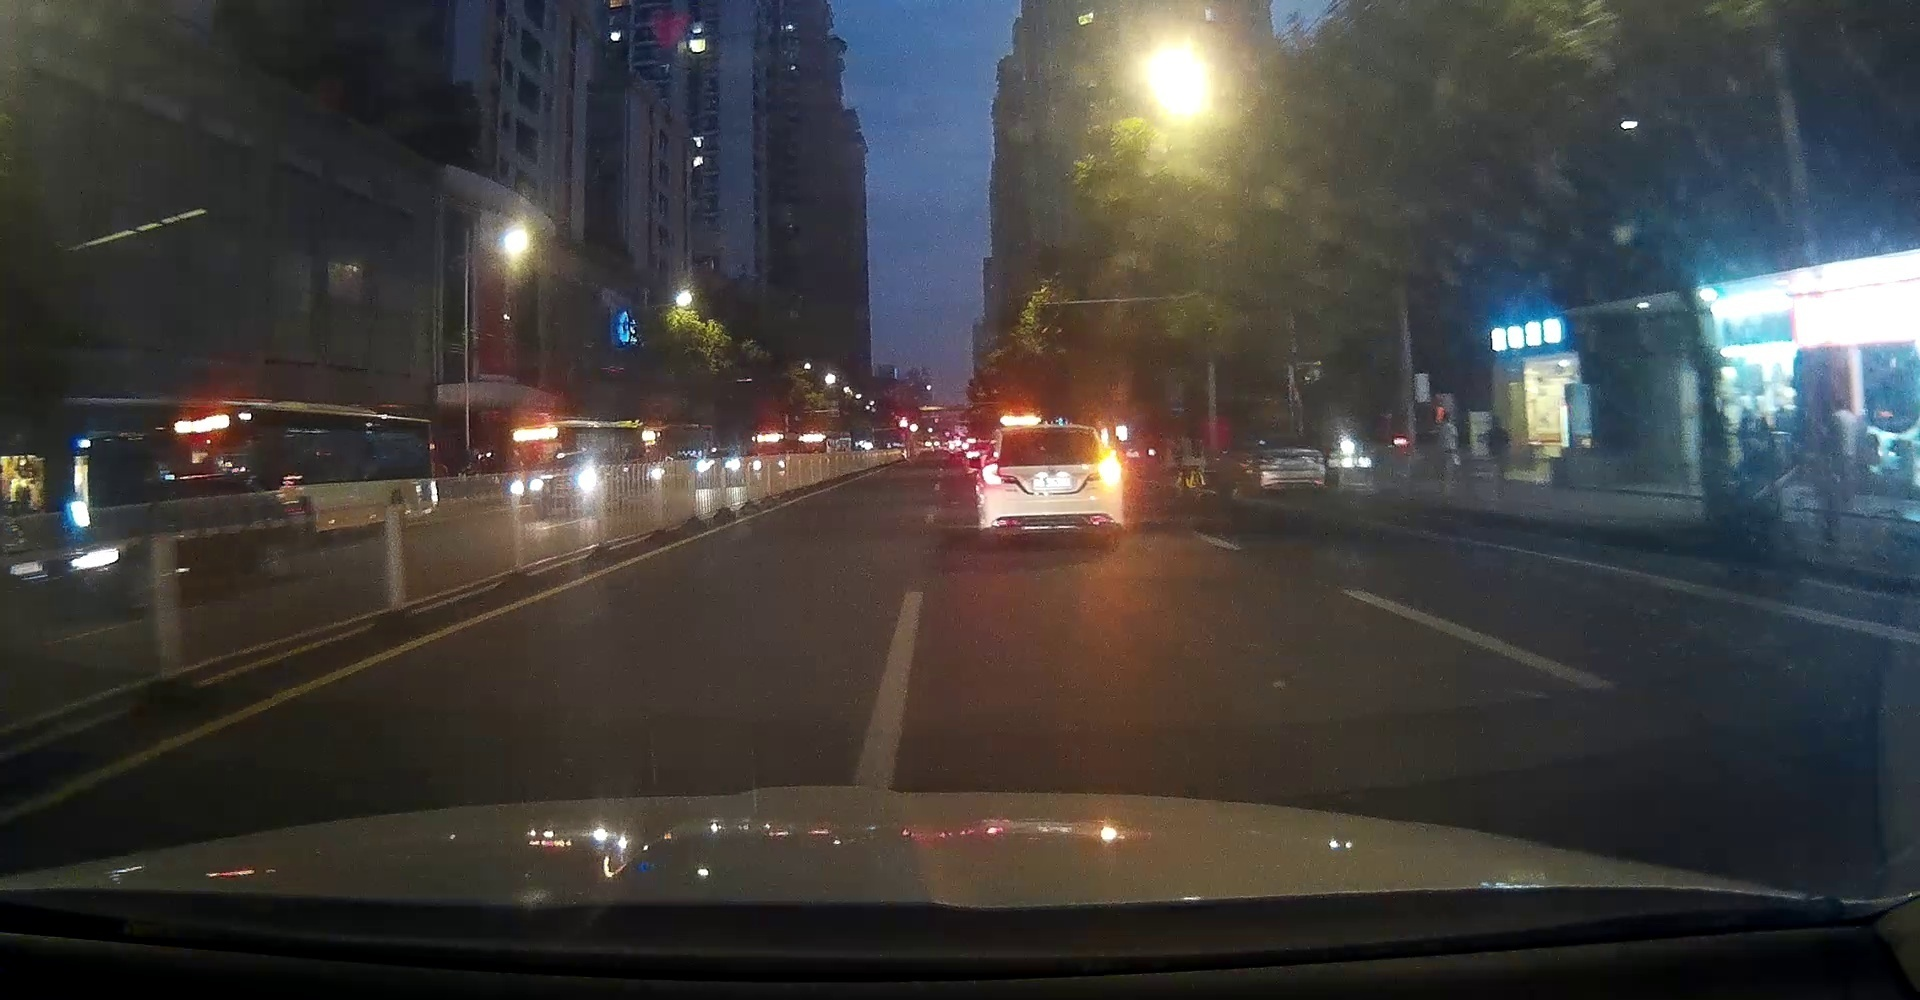L_light: (982, 462, 1002, 485)
R_light: (1098, 453, 1123, 485)
T_light: (1037, 426, 1065, 431)
night-right: (977, 424, 1125, 541)
